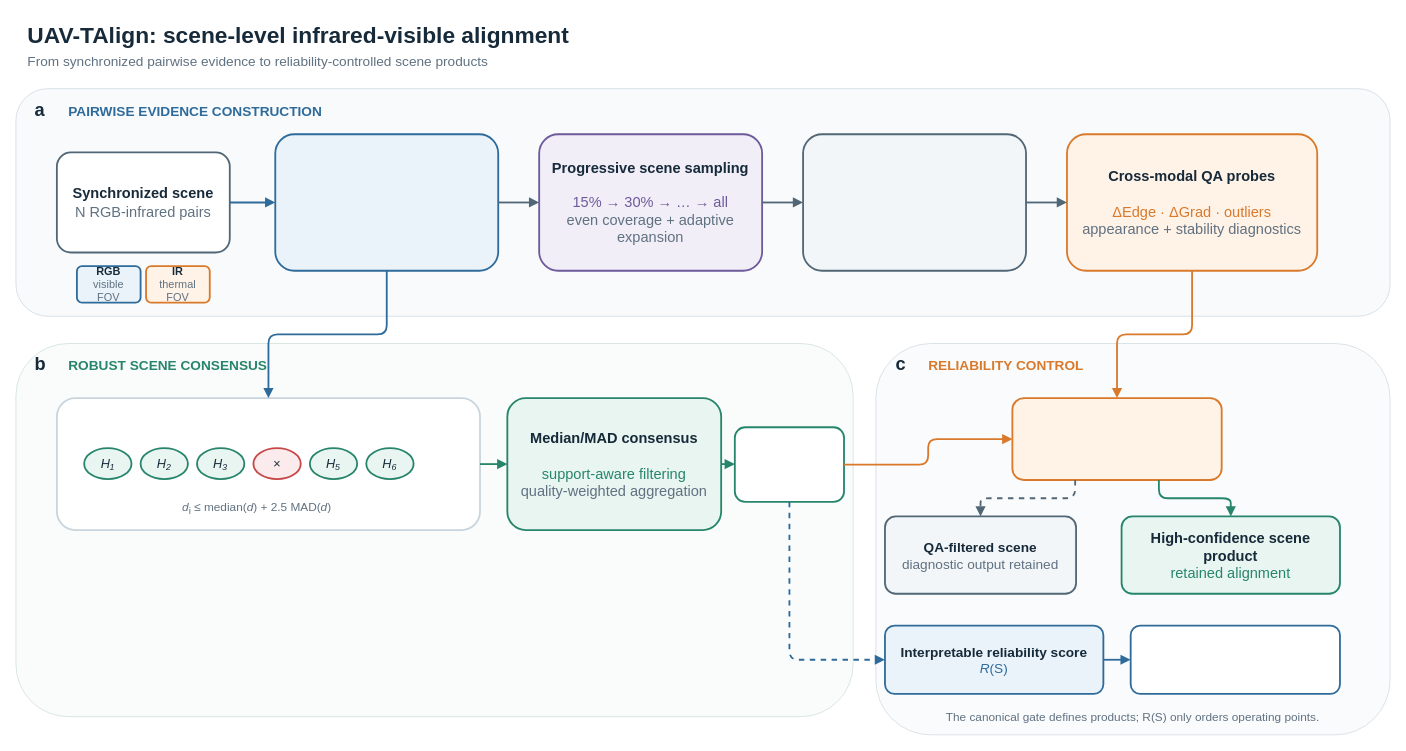
This 1406x751 diagram has some shape labels left out. Here are the shapes that lost their labels. From the top down, the box of each, then its label:
(274, 133, 499, 271): Cross-modal pairwise evidence H i matches + robust geometry
(802, 133, 1026, 271): Geometry-informed weighting q i = f(r, c, e, m, n) geometry + matcher confidence
(1011, 397, 1222, 480): Canonical QA gate fixed product decision
(56, 397, 480, 531): Frame hypotheses
(733, 426, 844, 502): Scene transform H̃ S
(1129, 624, 1340, 694): Risk–coverage profile ordered operating points
